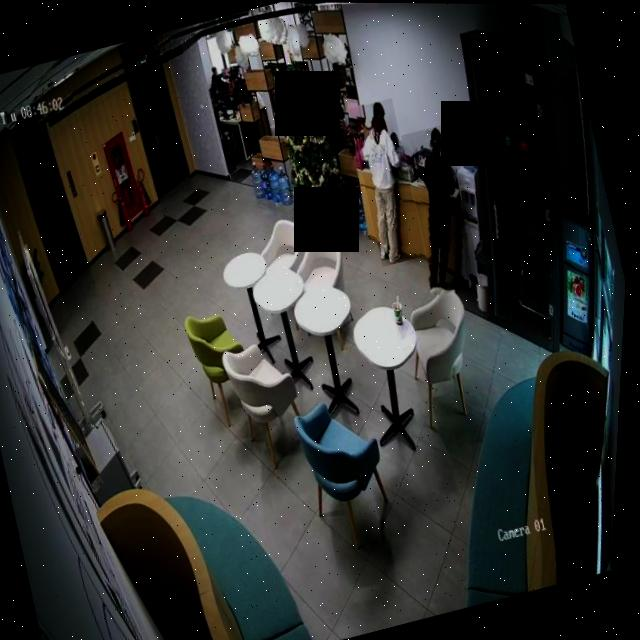person: (396, 122, 492, 295), (343, 97, 435, 266)
